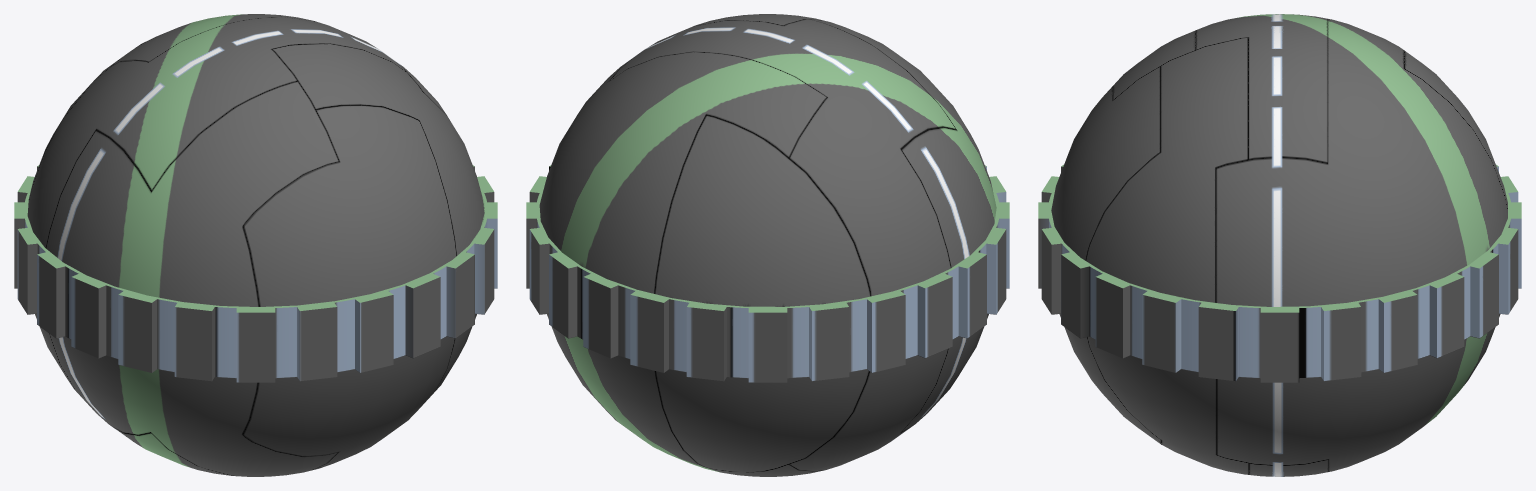
Rendered from SphereTank.FBX.
The picture shows the model from 3 angles, left to right: view 1: azimuth 30°, elevation 25°; view 2: azimuth 150°, elevation 25°; view 3: azimuth 270°, elevation 25°; orthographic projection.
Parts seen in each view (by area): view 1: TankBody; view 2: TankBody; view 3: TankBody.
Part boxes in pixels (<box>): TankBody: <box>14,14,497,476</box>; TankBody: <box>526,14,1009,476</box>; TankBody: <box>1038,14,1521,476</box>.
Bounding box in the file's own units: 31.75 × 30.48 × 31.75.
